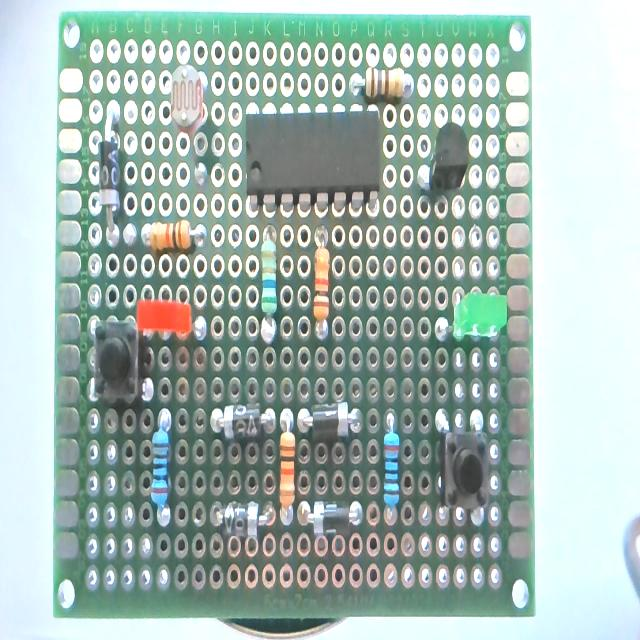IC: (242, 110, 382, 207)
cds: (170, 64, 208, 178)
diode: (100, 107, 120, 239), (214, 402, 275, 440), (298, 403, 358, 441), (216, 501, 276, 539), (299, 500, 362, 536)
led: (432, 288, 514, 356), (138, 298, 192, 336)
resistor: (144, 220, 204, 256), (351, 67, 413, 101), (260, 228, 278, 340), (313, 225, 330, 334), (150, 420, 170, 511), (278, 412, 296, 512), (383, 414, 399, 509)
switch: (434, 410, 488, 519), (94, 322, 138, 402)
transistor: (426, 121, 469, 196)
